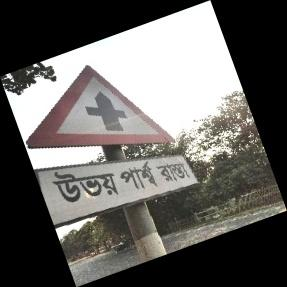Crossroad: (24, 66, 209, 225)
